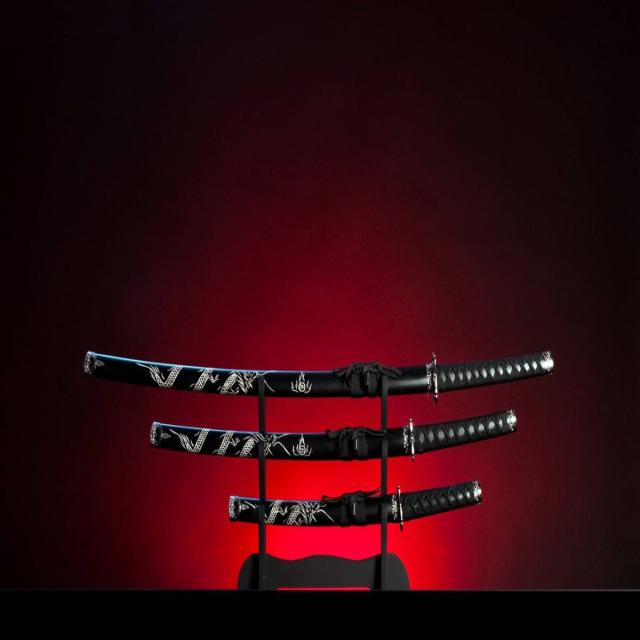knife: (67, 331, 560, 394), (138, 408, 527, 462), (222, 478, 485, 528)
